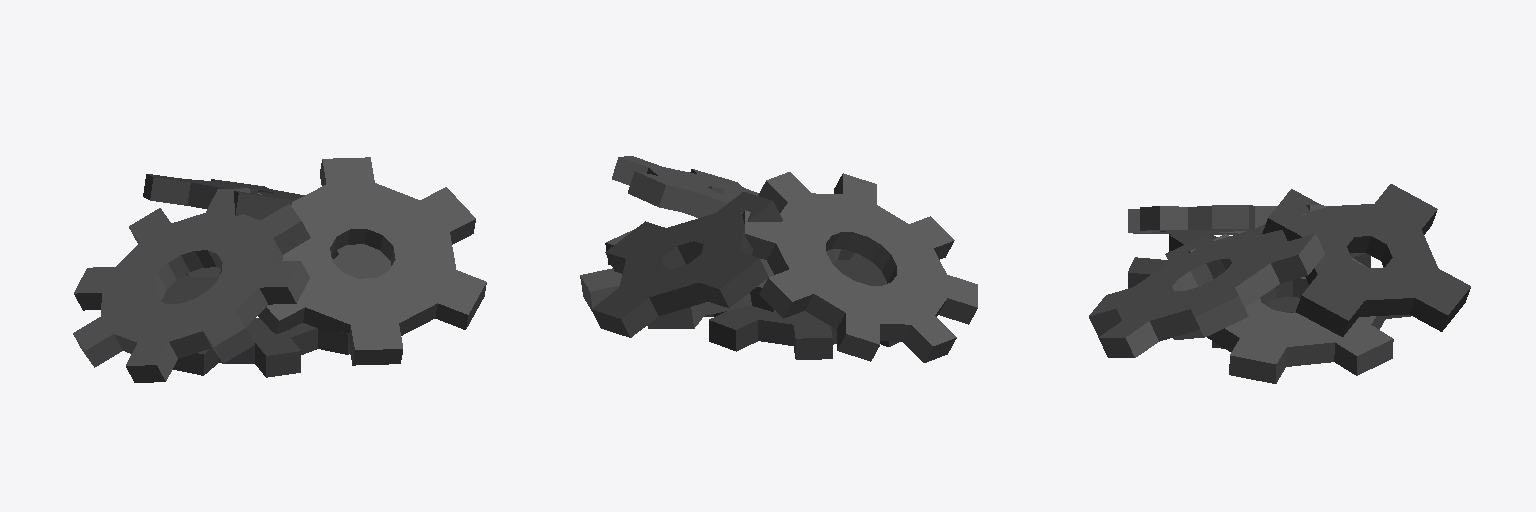
Rendered from Cogs.obj.
3 views of the same model, side by side, from view 1: azimuth 30°, elevation 25°; view 2: azimuth 150°, elevation 25°; view 3: azimuth 270°, elevation 25° (orthographic).
Parts seen in each view (by area): view 1: Cogs; view 2: Cogs; view 3: Cogs.
Part boxes in pixels (bbox=[...]): Cogs: bbox=[73, 157, 486, 382]; Cogs: bbox=[580, 156, 977, 362]; Cogs: bbox=[1089, 184, 1470, 383].
Size of the model in its own units: 0.8744 by 0.2954 by 0.8061.